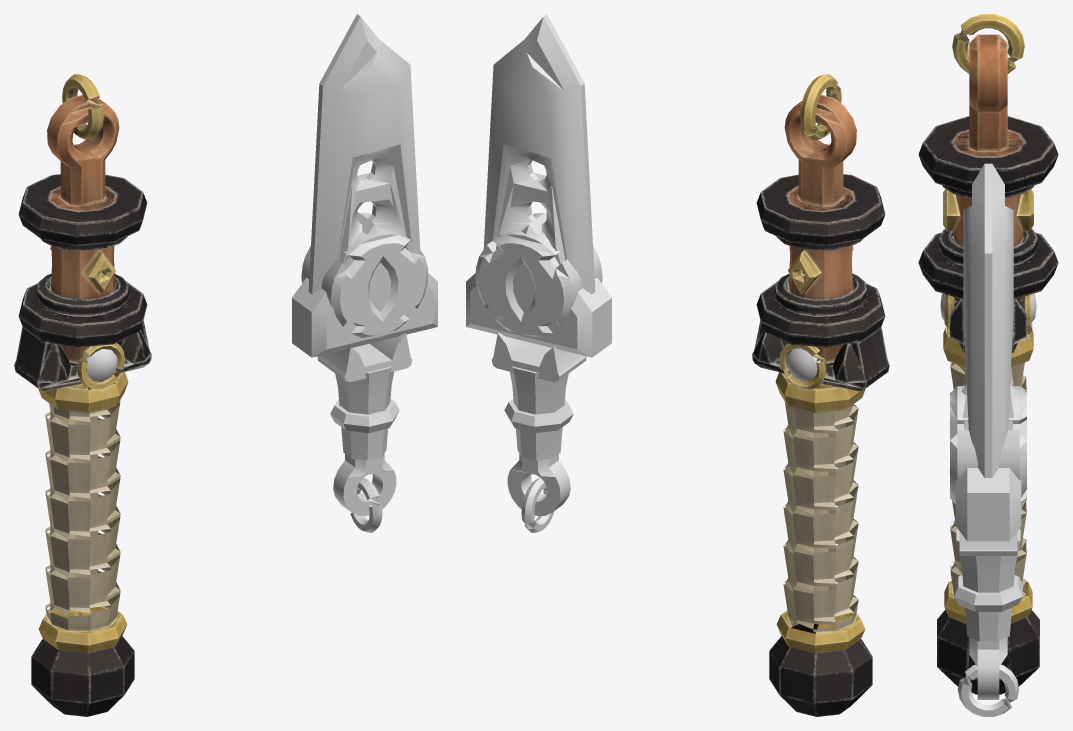
File: Yarnspinner.fbx
3 views of the same model, side by side, from view 1: azimuth 30°, elevation 25°; view 2: azimuth 150°, elevation 25°; view 3: azimuth 270°, elevation 25° (orthographic). The views are drawn at different scales.
Visible parts, largest first — view 1: Yarnspinner_Body, HeadBlade, HeadMotif, HeadLanget, HeadFerrule, HeadGuard, TailLug, HeadBand, TailRing, Yarnspinner_Glow; view 2: Yarnspinner_Body, HeadBlade, HeadMotif, HeadLanget, HeadFerrule, HeadGuard, TailLug, HeadBand, TailRing, Yarnspinner_Glow; view 3: Yarnspinner_Body, HeadBlade, HeadLanget, HeadMotif, HeadFerrule, TailLug, TailRing, HeadBand, HeadGuard, Yarnspinner_Glow.
Boxes of the visible parts, x1,y1,x2,y2 form: Yarnspinner_Body: (14,74,151,716); HeadBlade: (308,14,420,294); HeadMotif: (301,213,428,338); HeadLanget: (292,212,437,357); HeadFerrule: (335,366,394,460); HeadGuard: (317,332,412,385); TailLug: (333,453,396,515); HeadBand: (330,399,399,432); TailRing: (350,478,382,532); Yarnspinner_Glow: (86,349,117,381); Yarnspinner_Body: (752,74,889,716); HeadBlade: (483,14,595,294); HeadMotif: (475,213,602,338); HeadLanget: (466,212,611,357); HeadFerrule: (509,366,568,460); HeadGuard: (491,332,586,385); TailLug: (507,453,570,515); HeadBand: (504,399,573,432); TailRing: (521,478,554,532); Yarnspinner_Glow: (786,348,820,381); Yarnspinner_Body: (918,14,1058,694); HeadBlade: (963,163,1013,477); HeadLanget: (955,384,1021,541); HeadMotif: (950,386,1026,503); HeadFerrule: (956,528,1020,641); TailLug: (969,637,1007,699); TailRing: (957,664,1019,716); HeadBand: (954,575,1022,611); HeadGuard: (959,531,1017,555); Yarnspinner_Glow: (940,293,1036,322).
Bounding box in the file's own units: 1.28 × 1.93 × 0.364.
